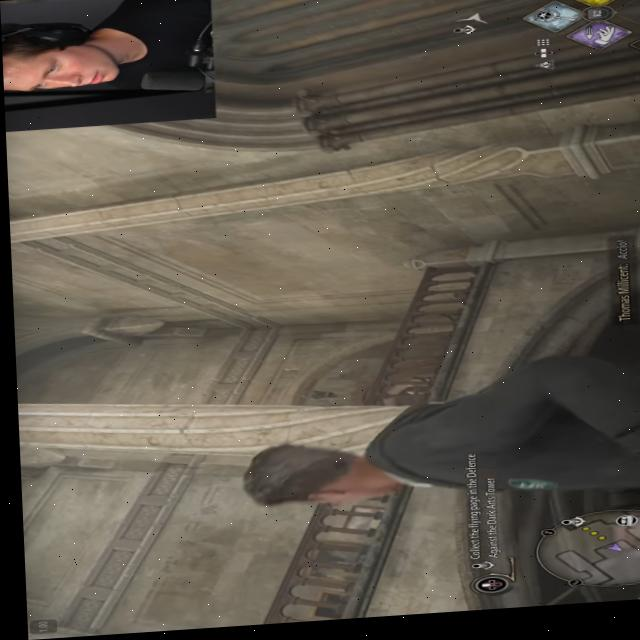compass: (555, 525, 576, 532), (452, 32, 472, 38), (465, 568, 484, 574)
